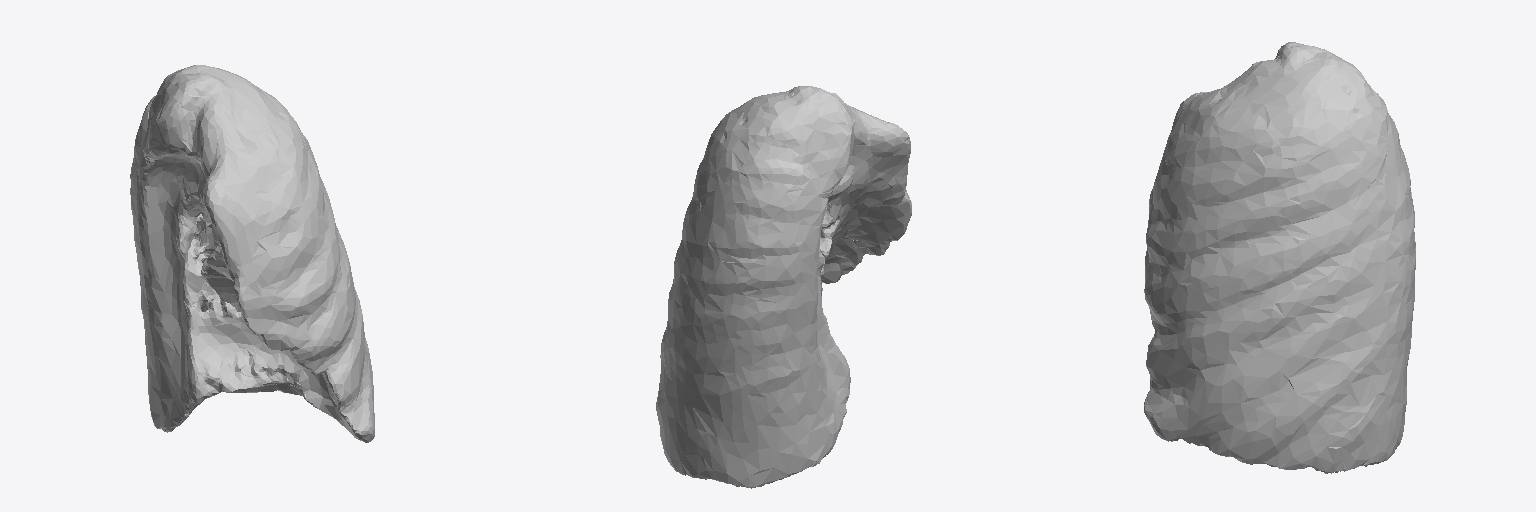
3 views of the same model, side by side, from view 1: azimuth 30°, elevation 25°; view 2: azimuth 150°, elevation 25°; view 3: azimuth 270°, elevation 25° (orthographic).
Visible parts, largest first — view 1: Polygonal_Model_5_Triangles_0; view 2: Polygonal_Model_5_Triangles_0; view 3: Polygonal_Model_5_Triangles_0.
Boxes of the visible parts, box(x1,y1,x2,y2) form: Polygonal_Model_5_Triangles_0: box(130, 65, 374, 442); Polygonal_Model_5_Triangles_0: box(656, 86, 911, 488); Polygonal_Model_5_Triangles_0: box(1144, 42, 1415, 473).
Size of the model in its own units: 5.44 by 10.27 by 6.83.